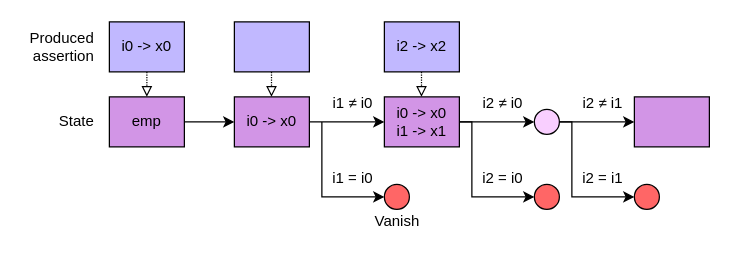
The diagram is 731 pixels wide and 263 high, and some of its shapes have lost their labels. The shapes that lost their labels are listed below. From the top down, each one's centre as x and y in pixels, then its label:
At (271,46): "i1 -> x1".
At (671,121): "i0 -> x0 i1 -> x1 i2 -> x2".
